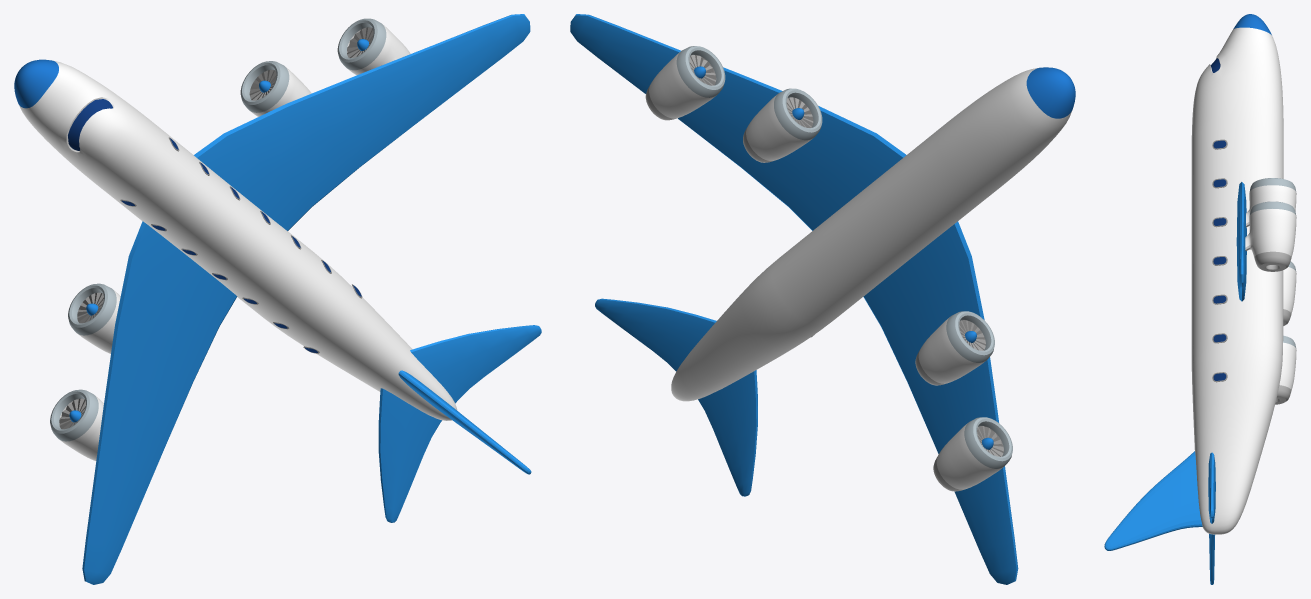
File: airplane.glb
The picture shows the model from 3 angles, left to right: view 1: azimuth 30°, elevation 25°; view 2: azimuth 150°, elevation 25°; view 3: azimuth 270°, elevation 25°; orthographic projection. The views are drawn at different scales.
Parts seen in each view (by area): view 1: Cube.789; view 2: Cube.789; view 3: Cube.789.
Boxes of the visible parts, <box> form: Cube.789: <box>14,14,541,584</box>; Cube.789: <box>570,14,1075,584</box>; Cube.789: <box>1104,14,1296,584</box>.
Bounding box in the file's own units: 2.33 × 2.33 × 0.9228.
1 material, 1 textured.
